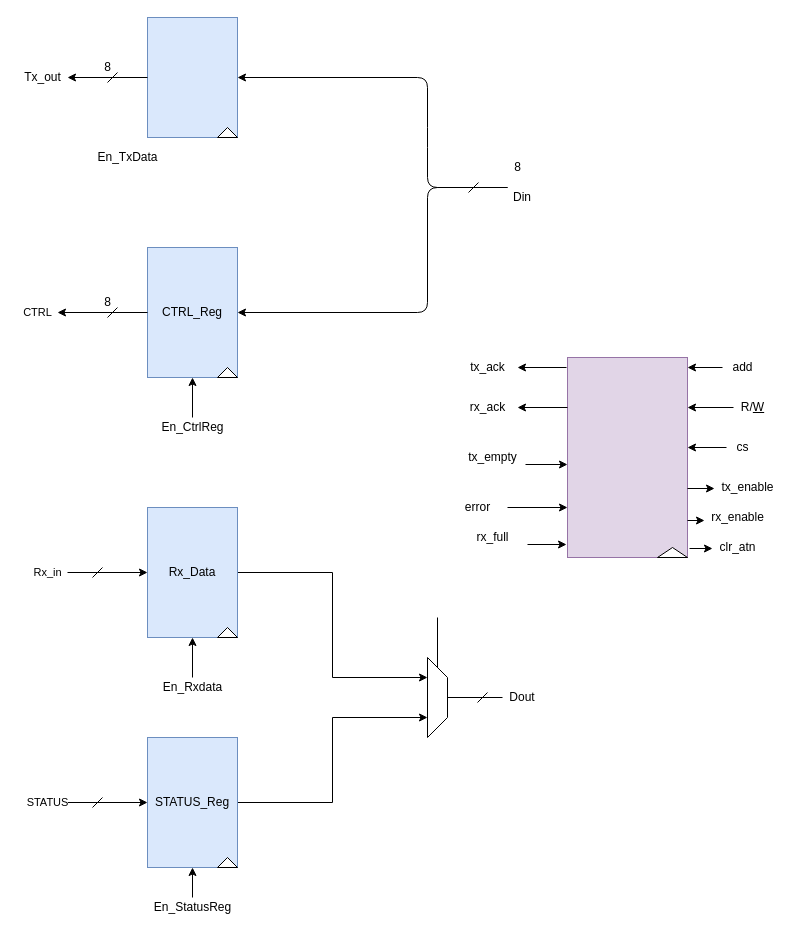
Image size: 799x935. Some labels were removed from this diagram. Here are the shapes that lost their labels. From the top down, the centre of each, then its label:
At point 192,77: "Tx_Data".
At point 627,457: "BUS INTERFACE CONTROL UNIT".
